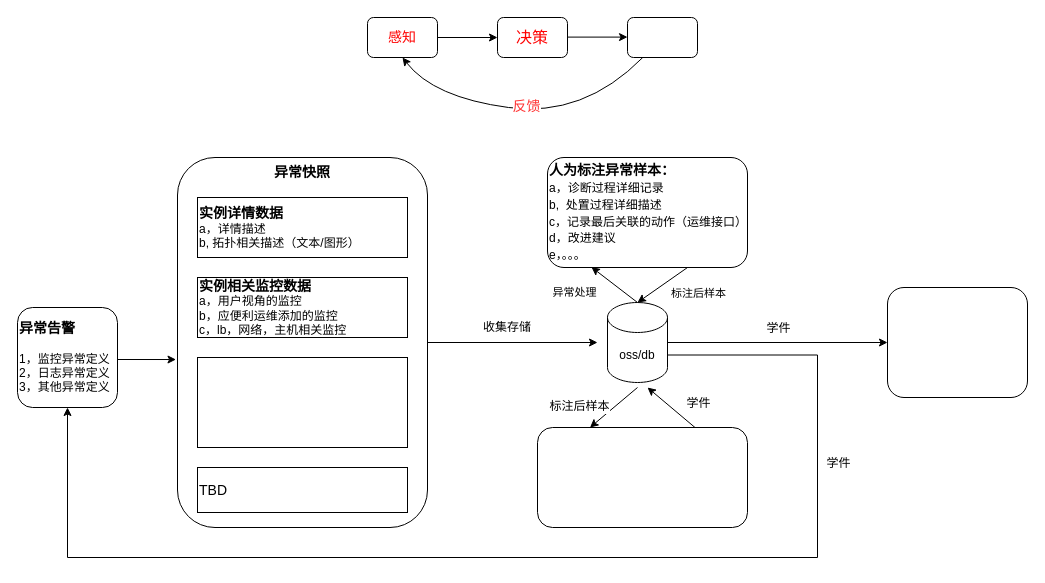
Some shapes in this 1045 by 583 pixel diagram are drawn without their labels. Each missing label, with the centre of its shape:
"实例相关日志数据 a，实例相关容器日志收集（数据面/控制面） b，实例相关历史操作记录； c，实例相关最近一次操作相信日志；" goes at point (302, 402).
"执行" goes at point (662, 37).
"机器学习/AI 1，异常监控特征提取 2，异常日志特征提取 3，其他特征提取" goes at point (642, 477).
"自动运维 a，自动高可用切换 b，自动迁移 c，自动慢查及优化报告 d，。。。" goes at point (957, 342).
